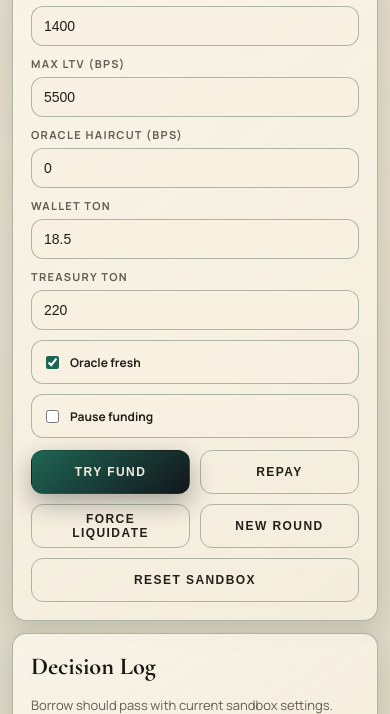
Scenario: demo sandbox: blocks funding when oracle is stale
This screenshot has width=390, height=714.
(page scrolled)
Click the checkbox labelled "Oracle fresh" at (52, 362), box [46,356,59,369]
(page scrolled)
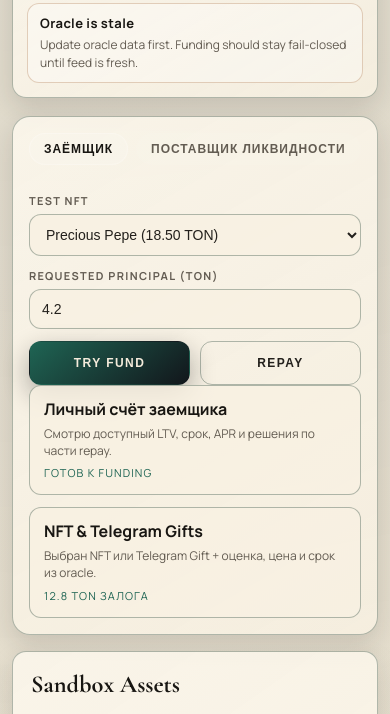
Click the button "TRY FUND" at (110, 363), box [29,341,190,385]
(page scrolled)
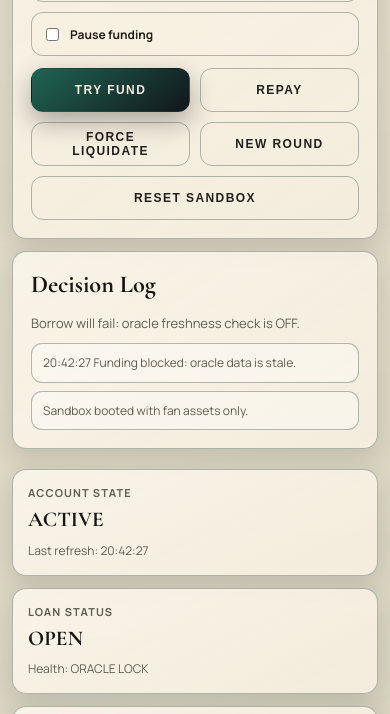
Expected: the list item "20:42:27 Funding blocked: oracle data is stale." is shown, [31,343,359,383]
